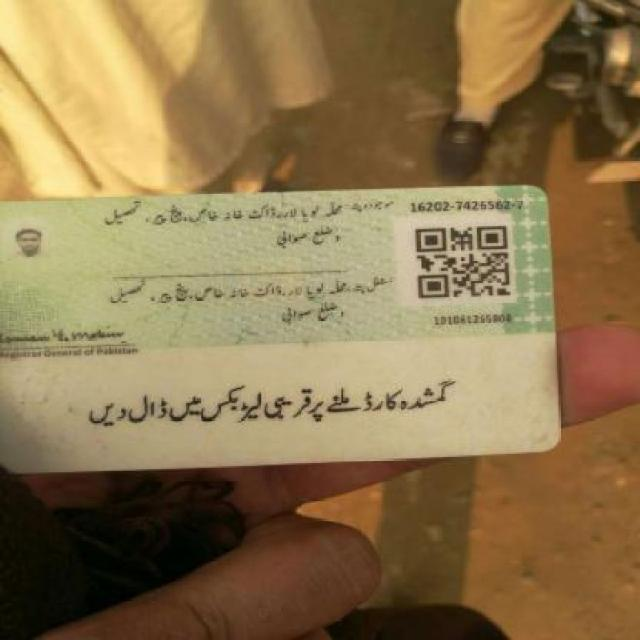Back: (3, 186, 571, 463)
